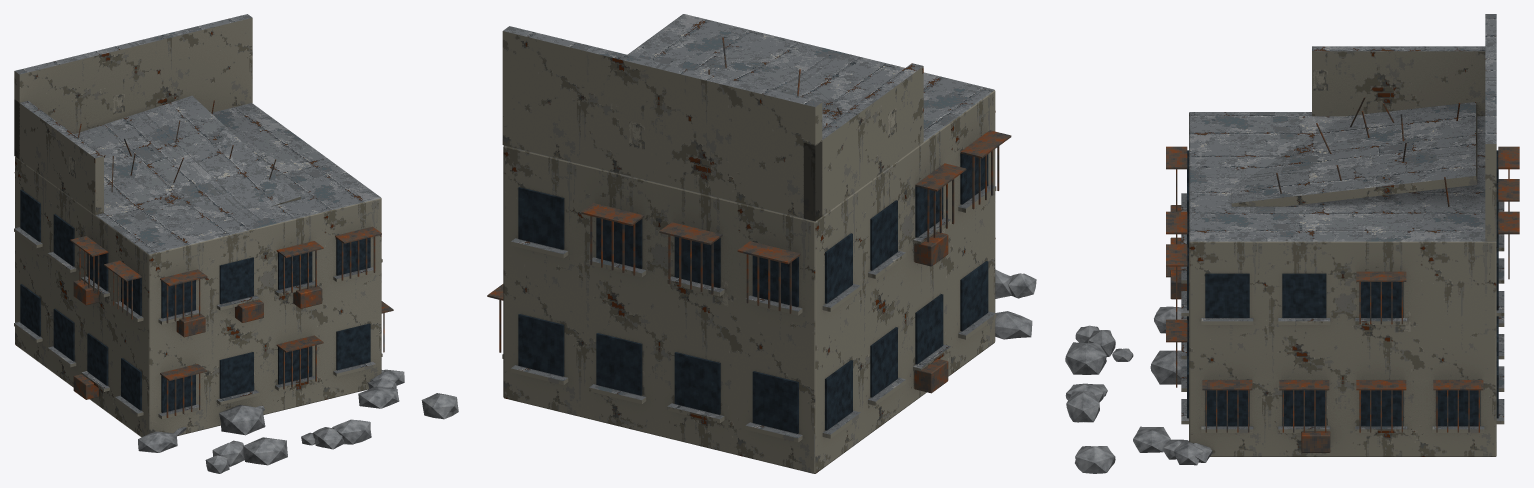
The model's file is city_ruin.glb.
3 views of the same model, side by side, from view 1: azimuth 30°, elevation 25°; view 2: azimuth 150°, elevation 25°; view 3: azimuth 270°, elevation 25° (orthographic). The views are drawn at different scales.
Visible parts, largest first — view 1: city_ruin; view 2: city_ruin; view 3: city_ruin.
Boxes of the visible parts, x1=… form: city_ruin: x1=14, y1=14, x2=458, y2=473; city_ruin: x1=487, y1=14, x2=1036, y2=473; city_ruin: x1=1065, y1=14, x2=1519, y2=473.
Bounding box in the file's own units: 9.78 × 9.21 × 11.81.
4 materials, 4 textured.
